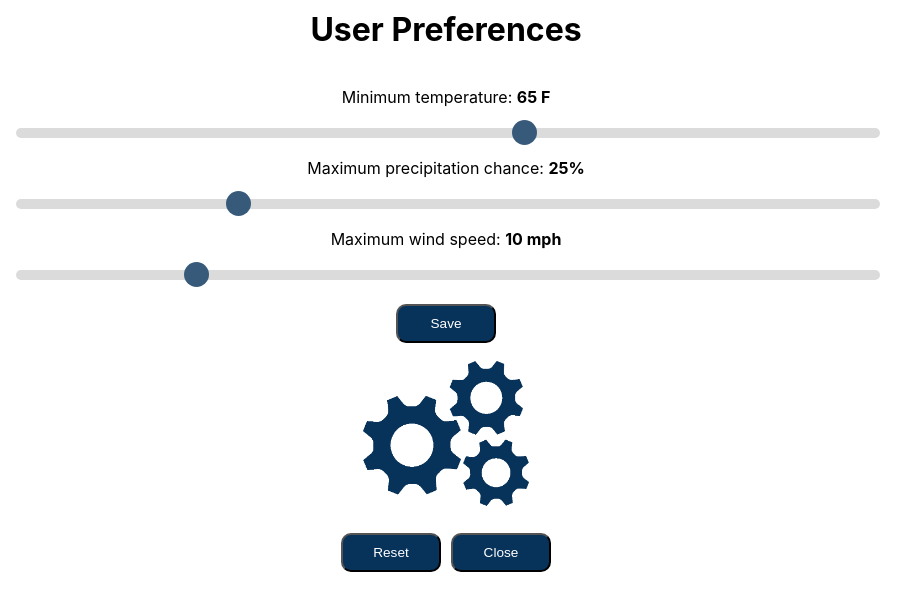
Test: <UserPreferences /> › updates UI
Set the slider named "set minimum temperature" to "20" at (178, 133), box x1=16 y1=128 x2=880 y2=138
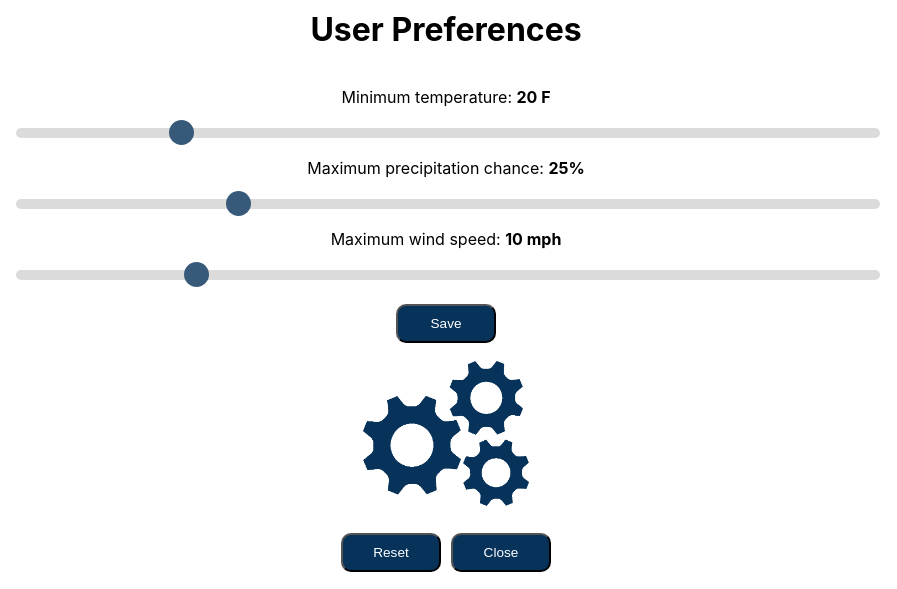
Now the text "20 F" is shown, box x1=516 y1=87 x2=551 y2=107
Set the slider named "set maximum chance of rain" to "50" at (448, 204), box x1=16 y1=199 x2=880 y2=209
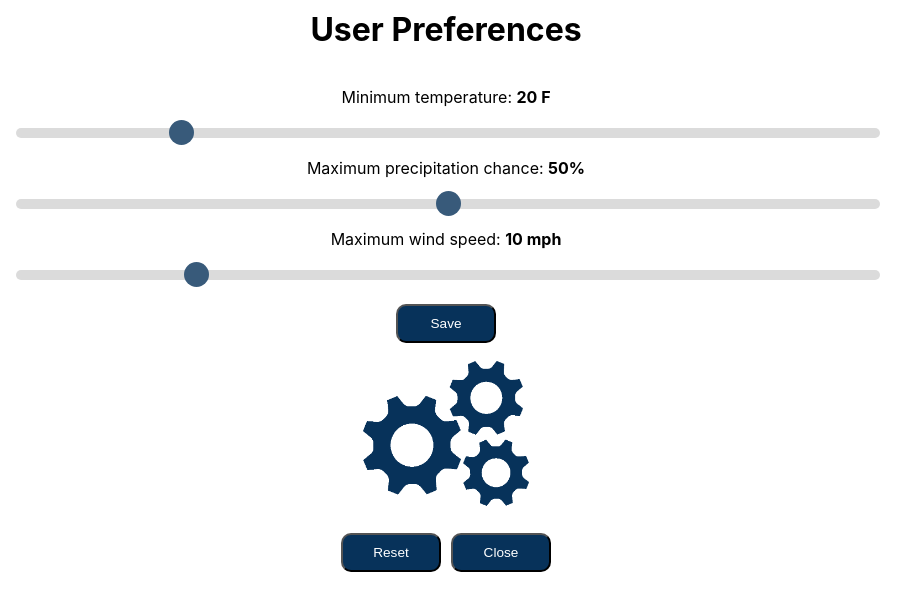
Now the text "50%" is shown, box x1=548 y1=158 x2=585 y2=178
Set the slider named "set maximum wind speed" to "5" at (109, 275), box x1=16 y1=270 x2=880 y2=280
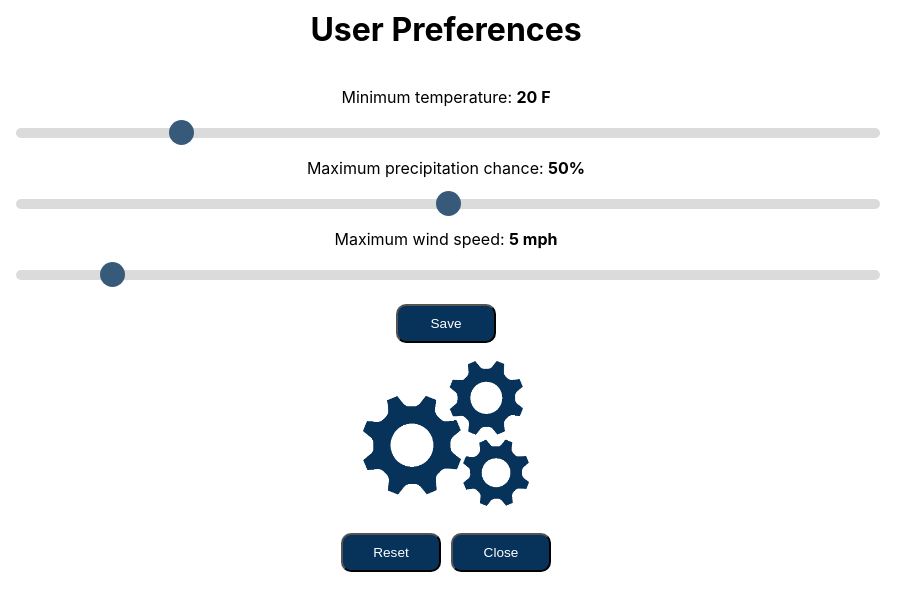
Now the text "5 mph" is shown, box x1=509 y1=229 x2=558 y2=249
